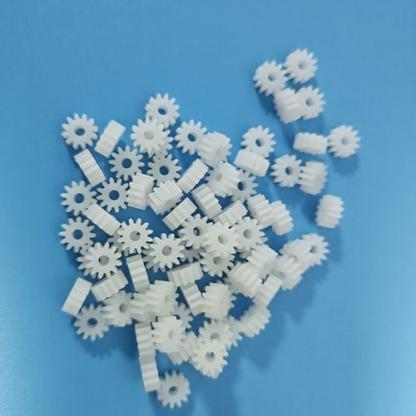FOD: (78, 242, 122, 281), (129, 116, 171, 154), (154, 371, 194, 409), (268, 152, 306, 191), (59, 216, 97, 254), (59, 111, 97, 149), (74, 304, 110, 344), (148, 231, 184, 271), (146, 178, 182, 217), (117, 216, 152, 256), (146, 93, 182, 131), (252, 60, 290, 96), (96, 174, 130, 214), (150, 316, 184, 356), (228, 263, 263, 301), (175, 118, 208, 158), (147, 279, 179, 320), (58, 276, 88, 319), (110, 146, 146, 181), (286, 47, 320, 84), (237, 306, 273, 340), (328, 124, 361, 161), (61, 181, 97, 214), (241, 122, 277, 155), (203, 129, 235, 166), (316, 192, 345, 232), (194, 344, 228, 378), (207, 164, 240, 199), (293, 85, 325, 121), (231, 216, 263, 251), (268, 200, 294, 238), (301, 232, 332, 263), (205, 222, 233, 253), (138, 357, 158, 396), (199, 252, 230, 276)
